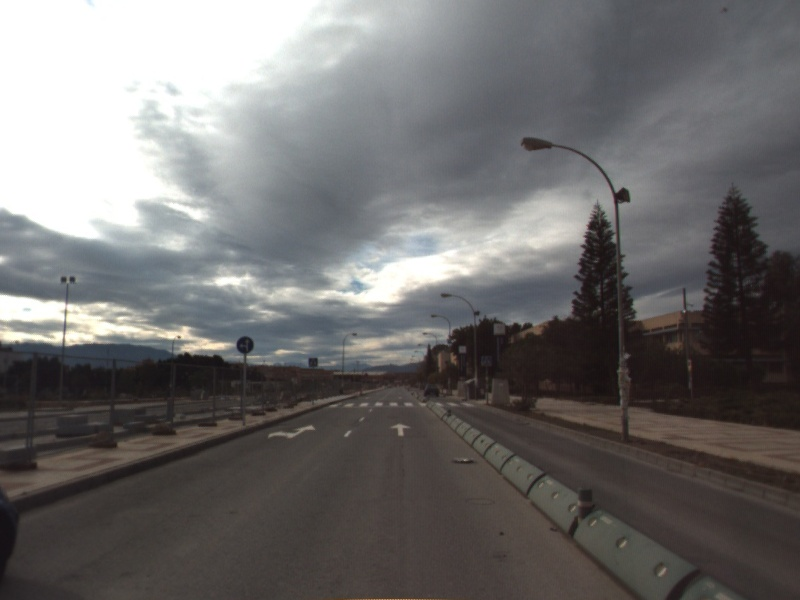STRAIGHT: (389, 421, 413, 438)
STRAIGHT_LEFT: (265, 422, 317, 441)
